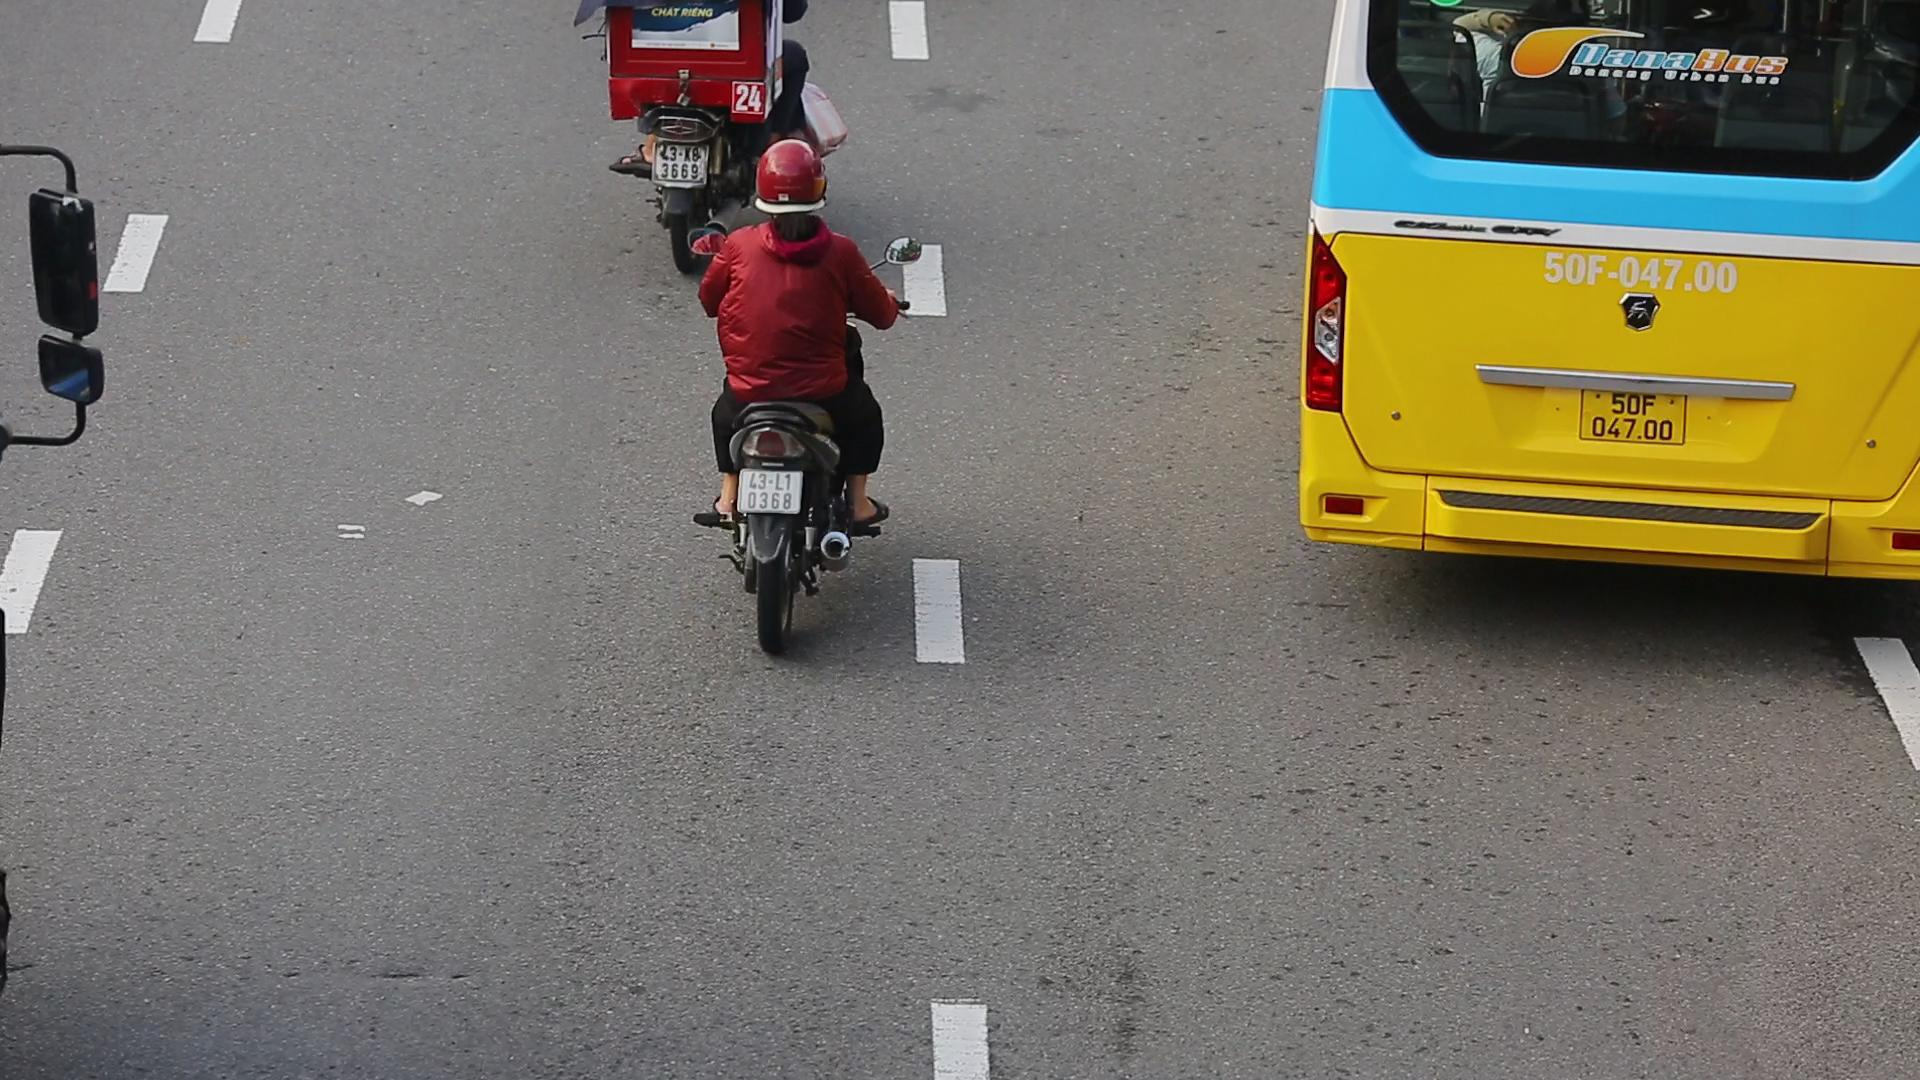motobike: (688, 125, 922, 647)
